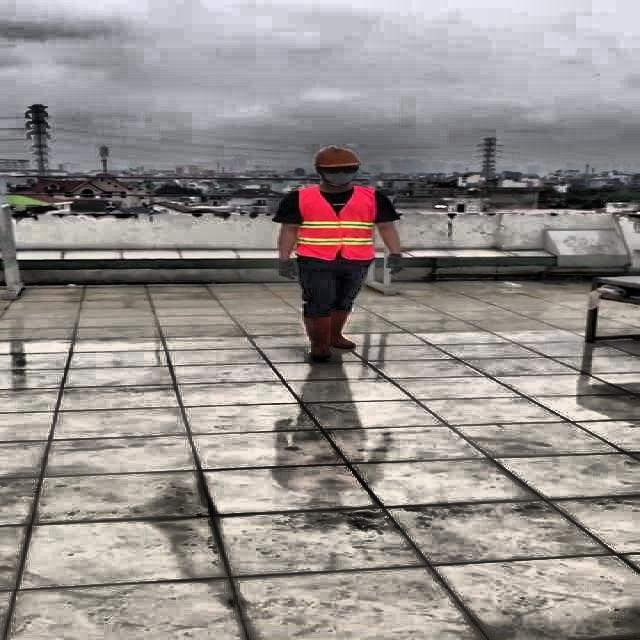safety_helmet: (310, 148, 365, 170)
safety_jacket: (297, 186, 375, 260)
